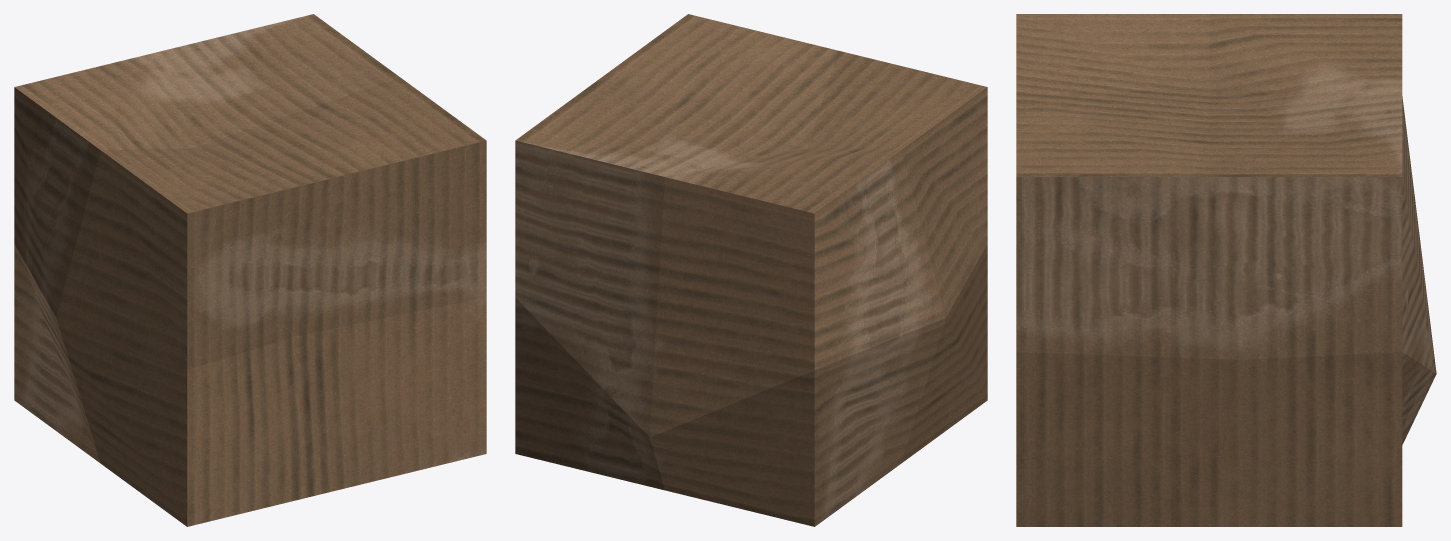
File: Cardboard box.fbx
3 renders of one model, left to right at view 1: azimuth 30°, elevation 25°; view 2: azimuth 150°, elevation 25°; view 3: azimuth 270°, elevation 25°, orthographic. The views are drawn at different scales.
Parts seen in each view (by area): view 1: Cube; view 2: Cube; view 3: Cube.
Boxes of the visible parts, x1=… form: Cube: x1=14, y1=14, x2=486, y2=526; Cube: x1=515, y1=14, x2=987, y2=526; Cube: x1=1016, y1=14, x2=1436, y2=526.
Size of the model in its own units: 239 by 200 by 218.
1 material, 1 textured.
